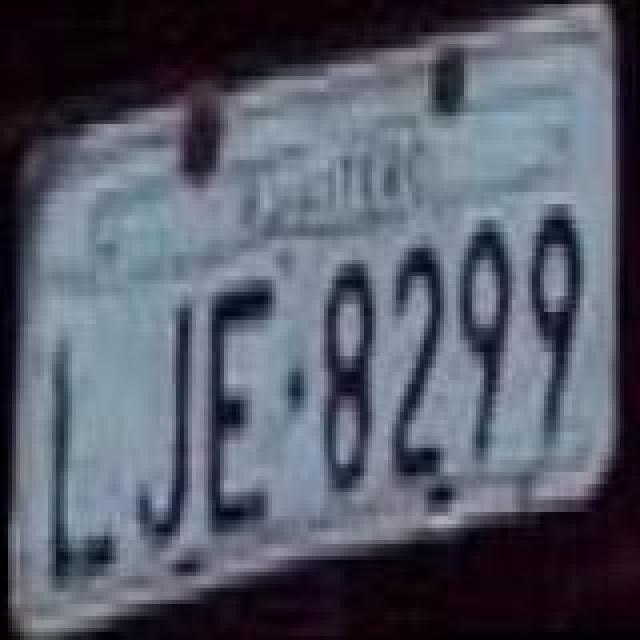2: (386, 244, 450, 484)
8: (316, 258, 380, 498)
9: (522, 202, 586, 454), (450, 220, 514, 460)
E: (204, 274, 284, 542)
J: (128, 294, 200, 550)
L: (38, 332, 114, 588)
